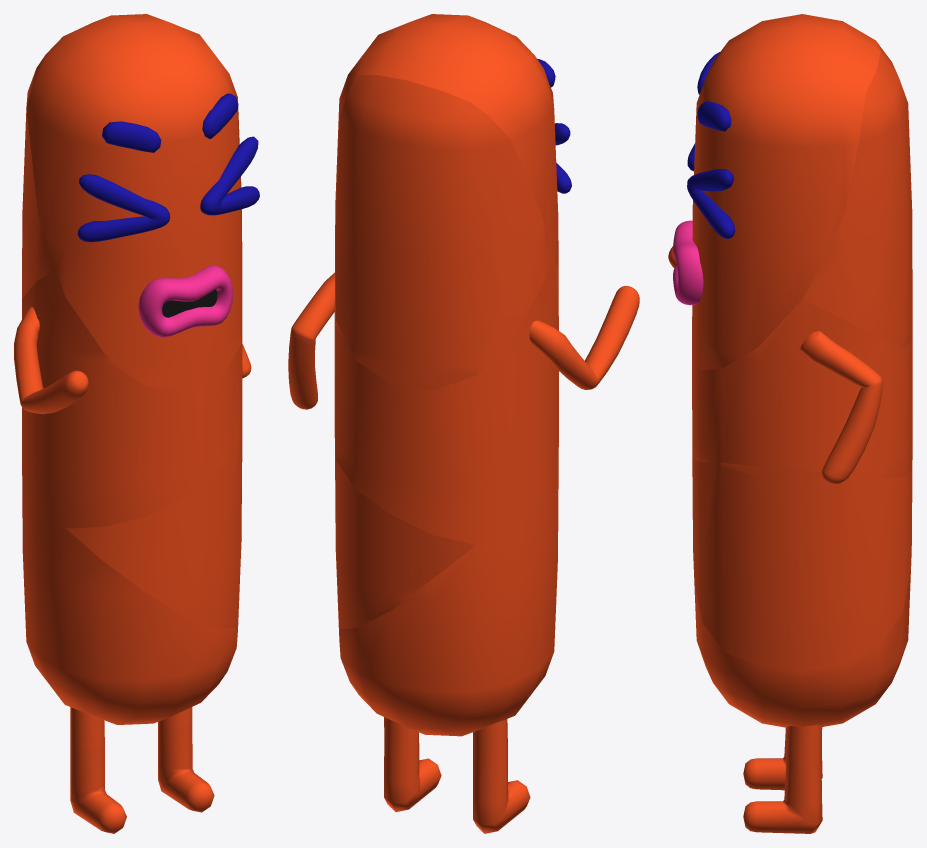
Rendered from New base cut 5 manh.fbx.
3 renders of one model, left to right at view 1: azimuth 30°, elevation 25°; view 2: azimuth 150°, elevation 25°; view 3: azimuth 270°, elevation 25°, orthographic.
Parts seen in each view (by area): view 1: polySurface16506, polySurface16512, polySurface16516, polySurface16513, face3, polySurface16508; view 2: polySurface16508, polySurface16512, polySurface16516, polySurface16506, polySurface16513, face3; view 3: polySurface16506, polySurface16513, polySurface16512, polySurface16516, polySurface16508, face3.
Part boxes in pixels (x1,y1,x2,y2): polySurface16506: [26, 14, 242, 389]; polySurface16512: [14, 270, 251, 528]; polySurface16516: [22, 502, 238, 833]; polySurface16513: [66, 420, 242, 628]; face3: [77, 93, 259, 337]; polySurface16508: [22, 56, 56, 298]; polySurface16508: [335, 75, 553, 390]; polySurface16512: [288, 252, 639, 544]; polySurface16516: [338, 505, 558, 833]; polySurface16506: [337, 14, 558, 268]; polySurface16513: [334, 430, 475, 629]; face3: [537, 58, 571, 193]; polySurface16506: [692, 14, 880, 369]; polySurface16513: [692, 459, 912, 669]; polySurface16512: [668, 246, 912, 484]; polySurface16516: [694, 565, 911, 833]; polySurface16508: [802, 41, 912, 347]; face3: [673, 52, 735, 305].
Bounding box in the file's own units: 145 × 410 × 116.
